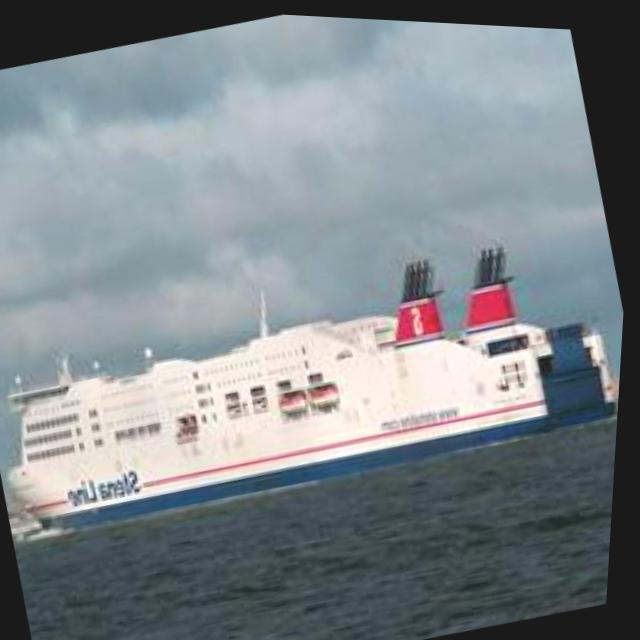ship2: (8, 240, 619, 530)
